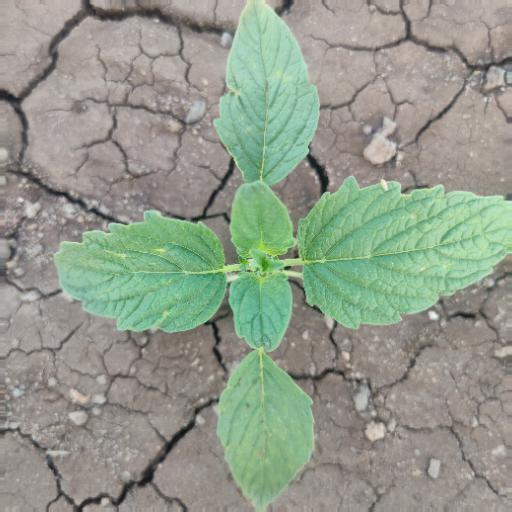crop: (48, 1, 512, 502)
